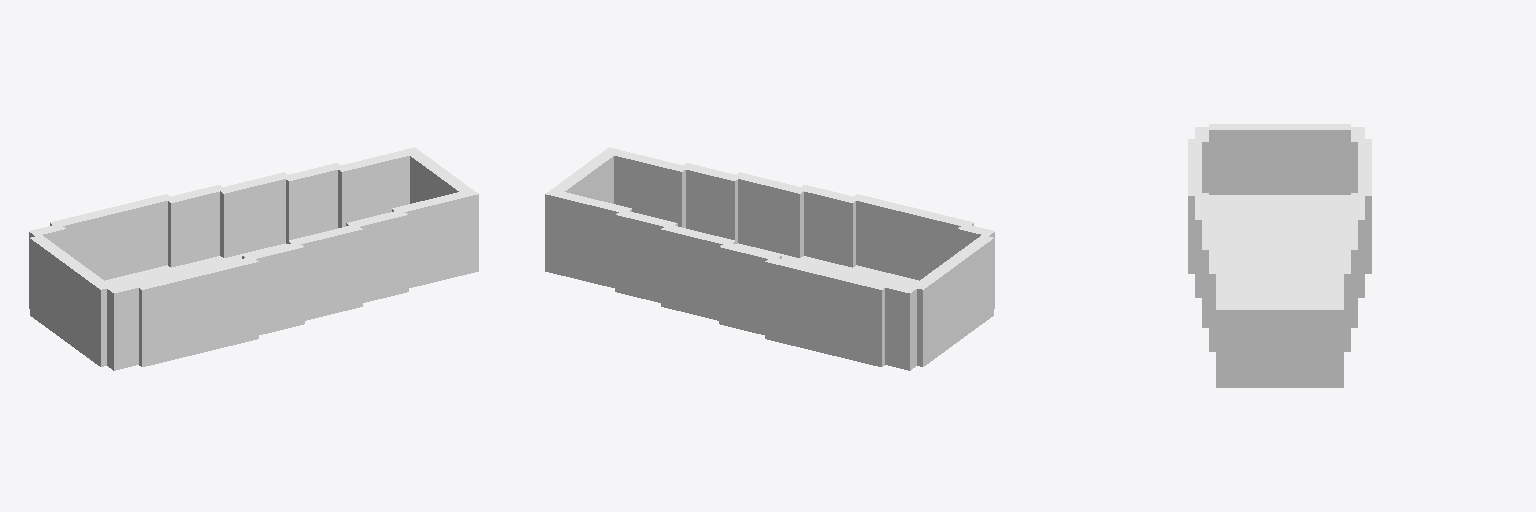
File: trumna.obj
3 renders of one model, left to right at view 1: azimuth 30°, elevation 25°; view 2: azimuth 150°, elevation 25°; view 3: azimuth 270°, elevation 25°, orthographic.
Parts seen in each view (by area): view 1: object 1; view 2: object 1; view 3: object 1.
Part boxes in pixels (bbox=[...]): object 1: bbox=[29, 147, 478, 370]; object 1: bbox=[545, 147, 994, 370]; object 1: bbox=[1188, 124, 1371, 387].
Size of the model in its own units: 6.2 by 1.2 by 2.6.